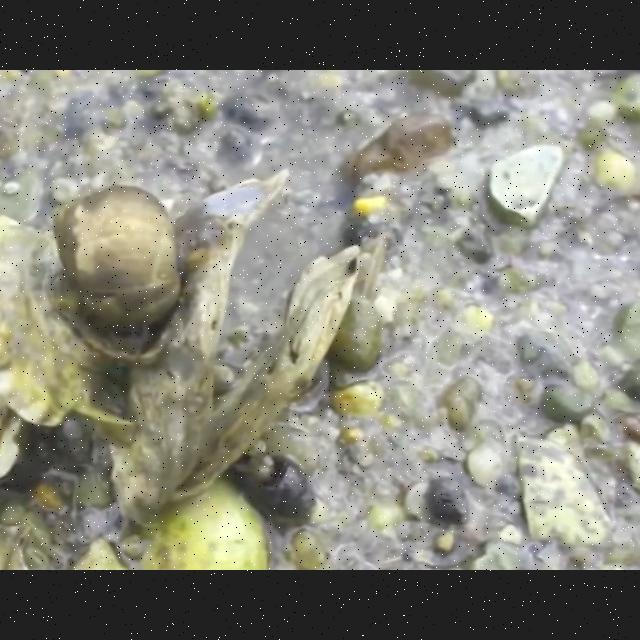Oyster-Closed: (0, 213, 114, 427)
Oyster-Open: (108, 163, 366, 525)
